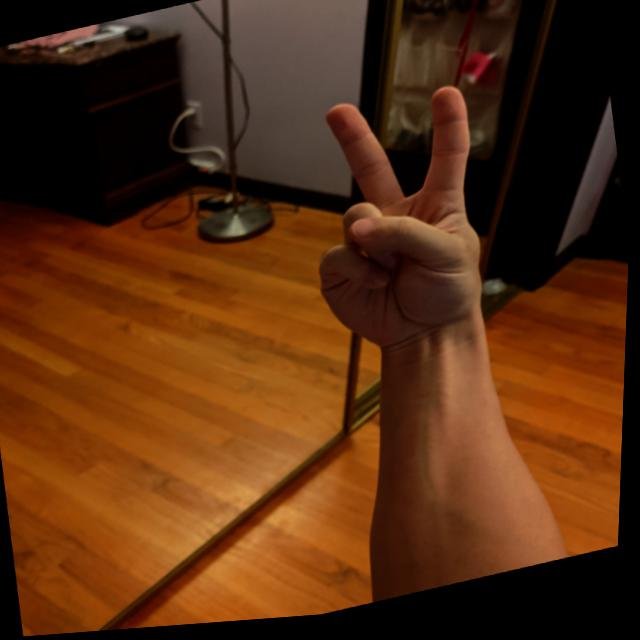V: (286, 74, 514, 373)
